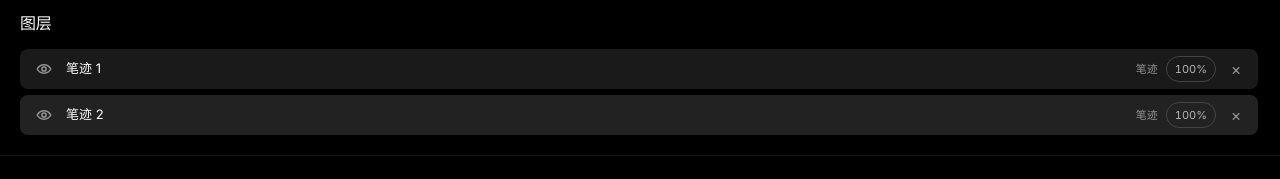
it: 删除恢复条 › 删除即时生效：不再弹原生确认，行消失并出现恢复条
The width and height of the screenshot is (1280, 179).
Click the button named "删除 笔迹 2" at [1236, 115], box 1224,103 -> 1248,127
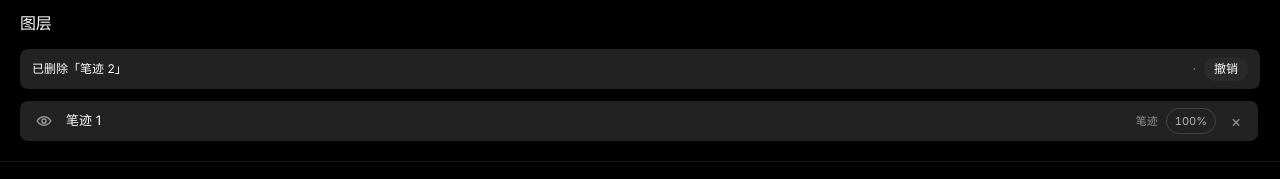
Result: the message reads "已删除「笔迹 2」 · 撤销" at 20,49 -> 1260,89
Result: the button "撤销" is shown at 1204,57 -> 1248,81
